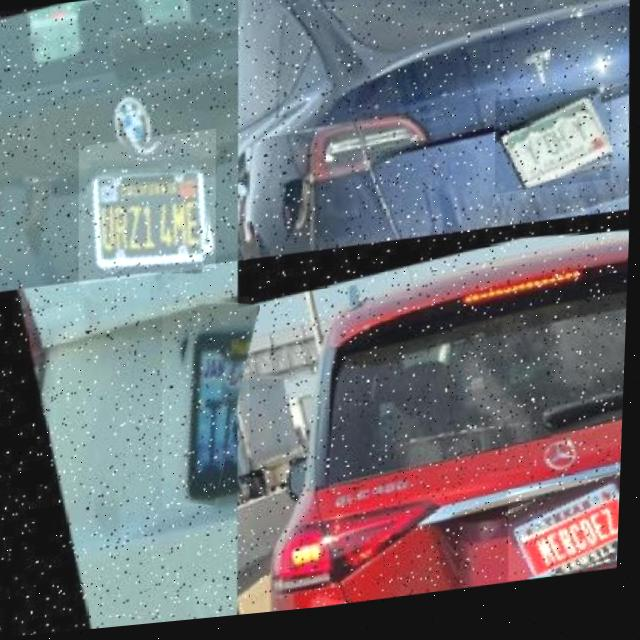LicensePlate: (75, 132, 222, 287), (159, 300, 259, 514), (497, 102, 612, 200), (513, 489, 624, 589)
